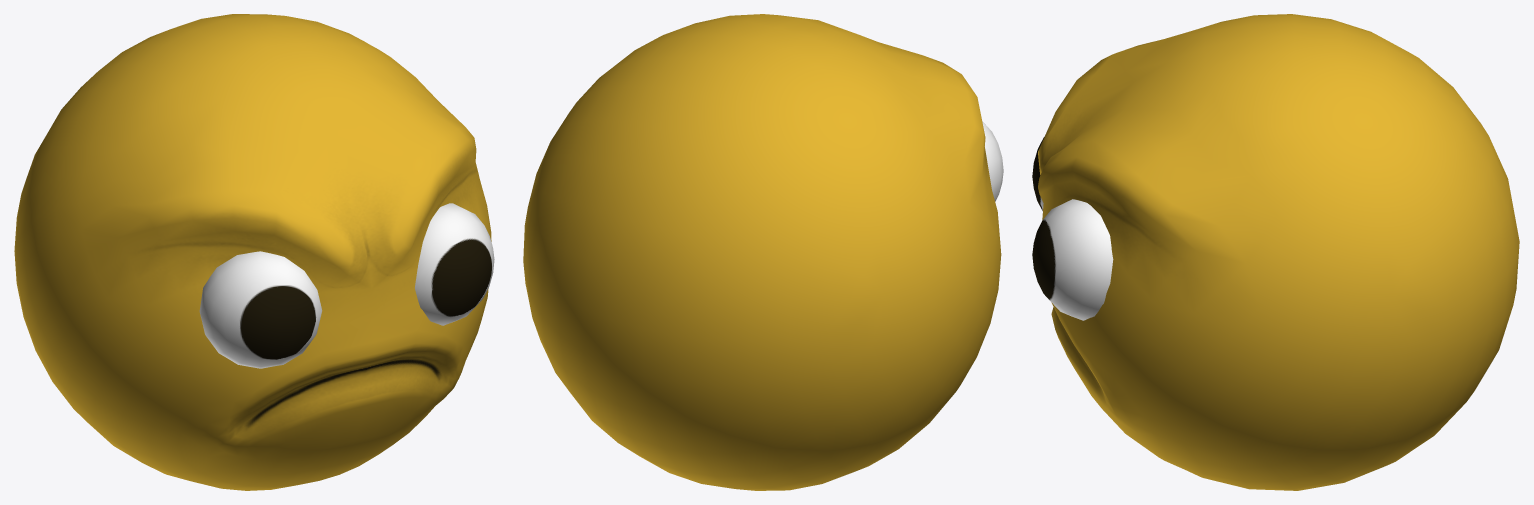
File: emoji_angry.fbx
The picture shows the model from 3 angles, left to right: view 1: azimuth 30°, elevation 25°; view 2: azimuth 150°, elevation 25°; view 3: azimuth 270°, elevation 25°; orthographic projection.
Visible parts, largest first — view 1: emoji_angry_lo:Group1229; view 2: emoji_angry_lo:Group1229; view 3: emoji_angry_lo:Group1229.
Boxes of the visible parts, x1,y1,x2,y2 form: emoji_angry_lo:Group1229: (14, 14, 494, 490); emoji_angry_lo:Group1229: (523, 14, 1003, 490); emoji_angry_lo:Group1229: (1032, 14, 1519, 490).
Bounding box in the file's own units: 0.989 × 0.9869 × 1.01.
Materials: 1 (1 with a texture image).
